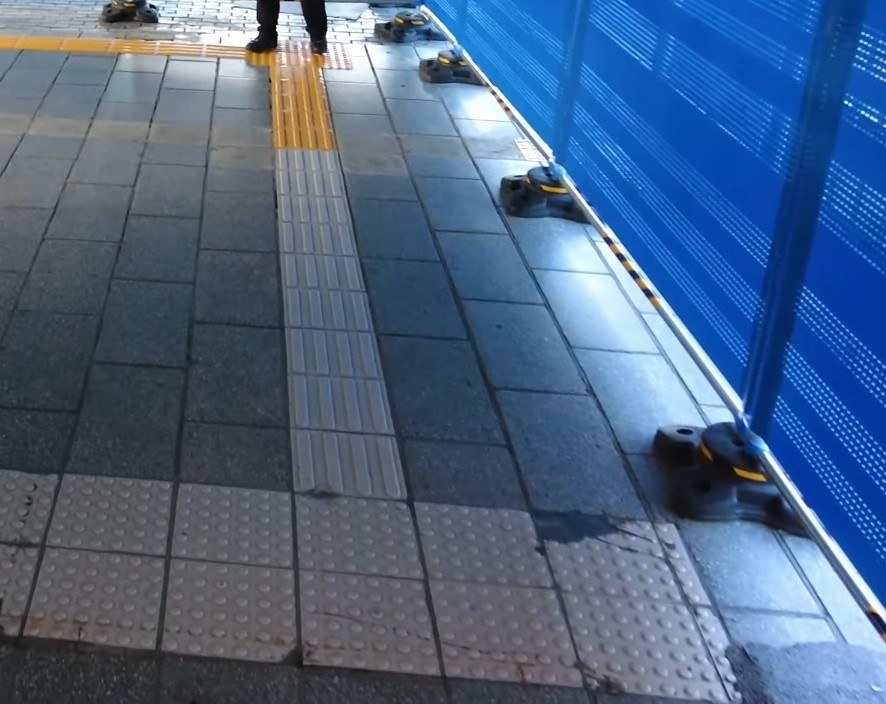guideBlock: (287, 438, 426, 515), (283, 328, 402, 383), (287, 372, 398, 428), (277, 291, 371, 343), (274, 216, 359, 271), (274, 156, 356, 208), (282, 246, 369, 291), (266, 194, 353, 239), (270, 127, 341, 159)
warningBlock: (550, 585, 718, 704), (30, 549, 195, 643), (154, 561, 301, 665), (541, 518, 700, 604), (292, 567, 434, 662), (437, 578, 568, 679), (409, 498, 555, 582), (177, 482, 289, 580), (295, 505, 415, 576), (56, 482, 161, 553), (1, 462, 54, 526)
